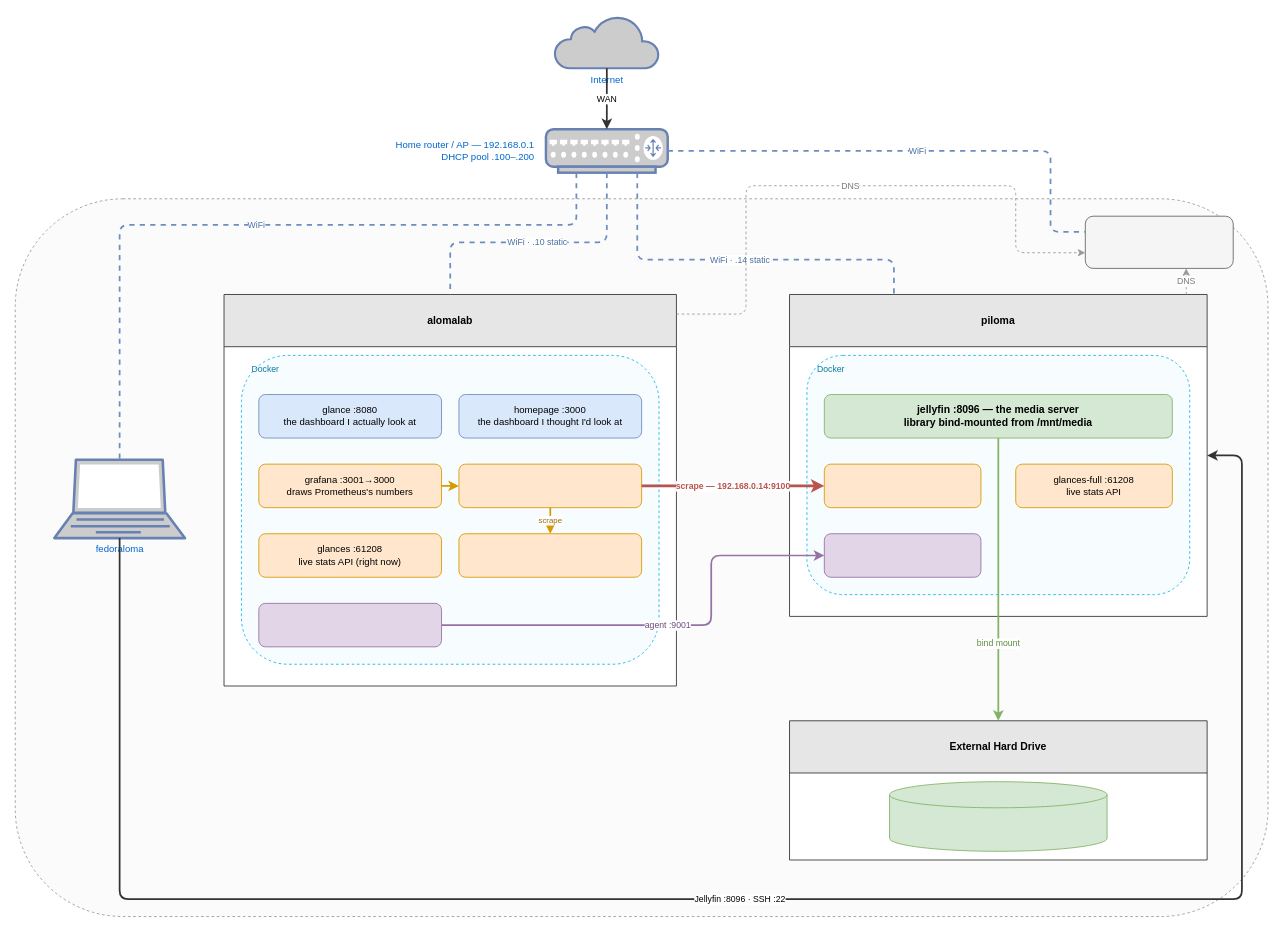
The diagram is 1283 pixels wide and 932 high, and some of its shapes have lost their labels. The shapes that lost their labels are listed below. From the top down, each one's centre as x and y in pixels, then its label:
At pixel 1158 241: "Pi-hole".
At pixel 550 485: "prometheus :9091→9090 TSDB · scrape_interval 15s".
At pixel 902 485: "node_exporter :9100 host metrics".
At pixel 550 555: "node_exporter :9100 translates /proc + /sys".
At pixel 902 555: "portainer_agent :9001 reports into alomalab".
At pixel 350 624: "portainer :9443 · :8000 Docker UI — one window, two panes".
At pixel 998 816: "/mnt/media — 932G USB drive (NTFS)".
